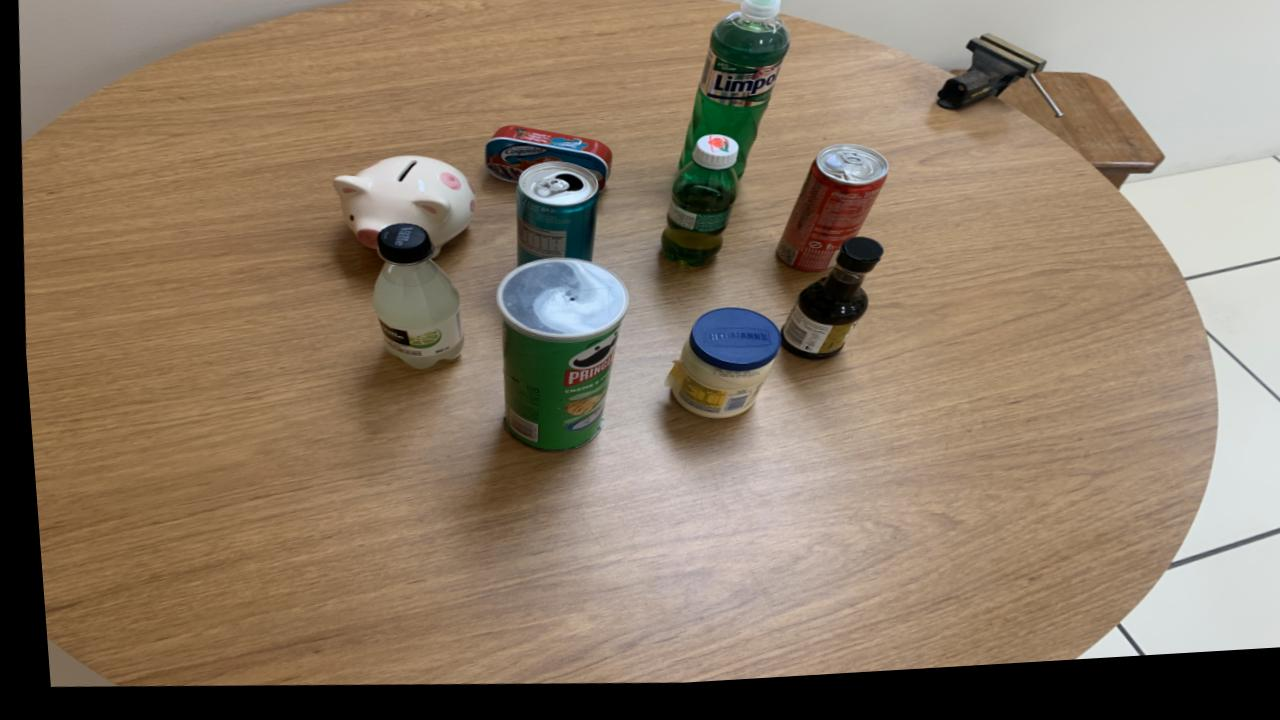Coke-Drinks: (771, 155, 885, 282)
Detergent-Cleanup_Items: (675, 0, 787, 186)
English_Sauce-Pantry_Items: (776, 249, 878, 369)
Guarana-Drinks: (658, 143, 735, 274)
Mayonnaise-Pantry_Items: (659, 317, 774, 426)
Pig_Safe-Miscellaneous: (330, 162, 472, 254)
Pringles-Snacks: (491, 266, 623, 457)
Soda-Drinks: (368, 227, 458, 374)
Tea-Drinks: (512, 168, 598, 271)
Tuna_Can-Pantry_Items: (482, 132, 610, 189)
